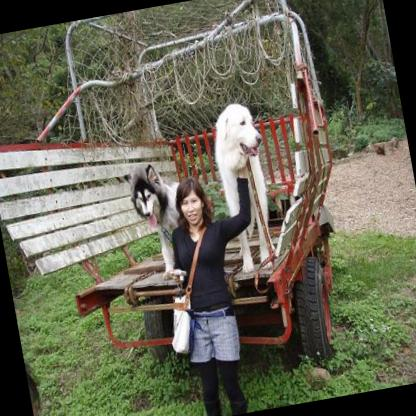Great_Pyrenees: (202, 97, 282, 274), (118, 156, 194, 284)
